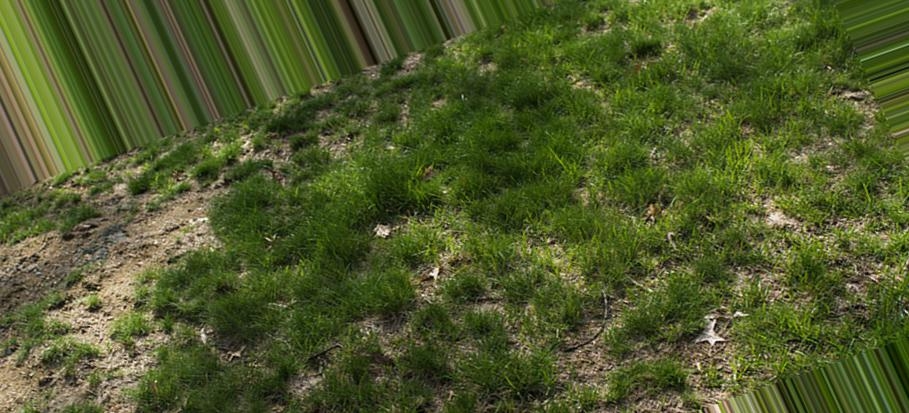patch: (4, 255, 134, 401), (50, 206, 161, 368), (501, 297, 706, 374), (142, 144, 237, 243)
